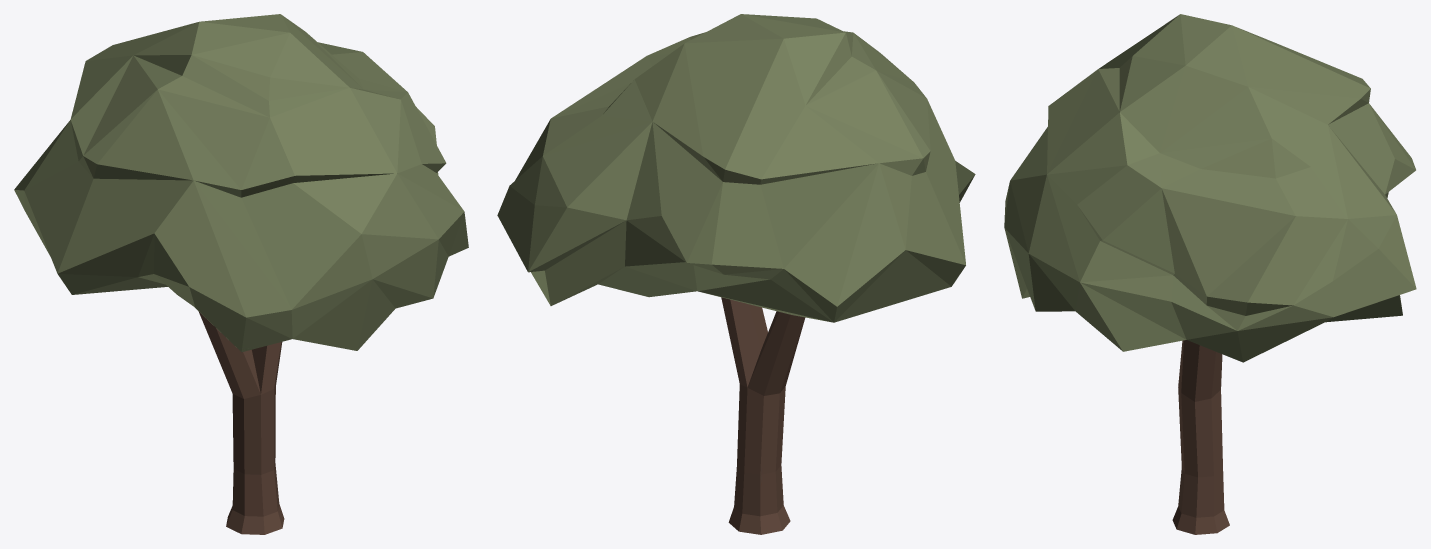
Rendered from SM_Tree_04.fbx.
3 renders of one model, left to right at view 1: azimuth 30°, elevation 25°; view 2: azimuth 150°, elevation 25°; view 3: azimuth 270°, elevation 25°, orthographic. The views are drawn at different scales.
Parts seen in each view (by area): view 1: SM_Tree_04; view 2: SM_Tree_04; view 3: SM_Tree_04.
Part boxes in pixels (<box>): SM_Tree_04: <box>14,14,468,534</box>; SM_Tree_04: <box>497,14,975,534</box>; SM_Tree_04: <box>1004,14,1416,534</box>.
Size of the model in its own units: 157 by 185 by 144.
Materials: 1 (1 with a texture image).
